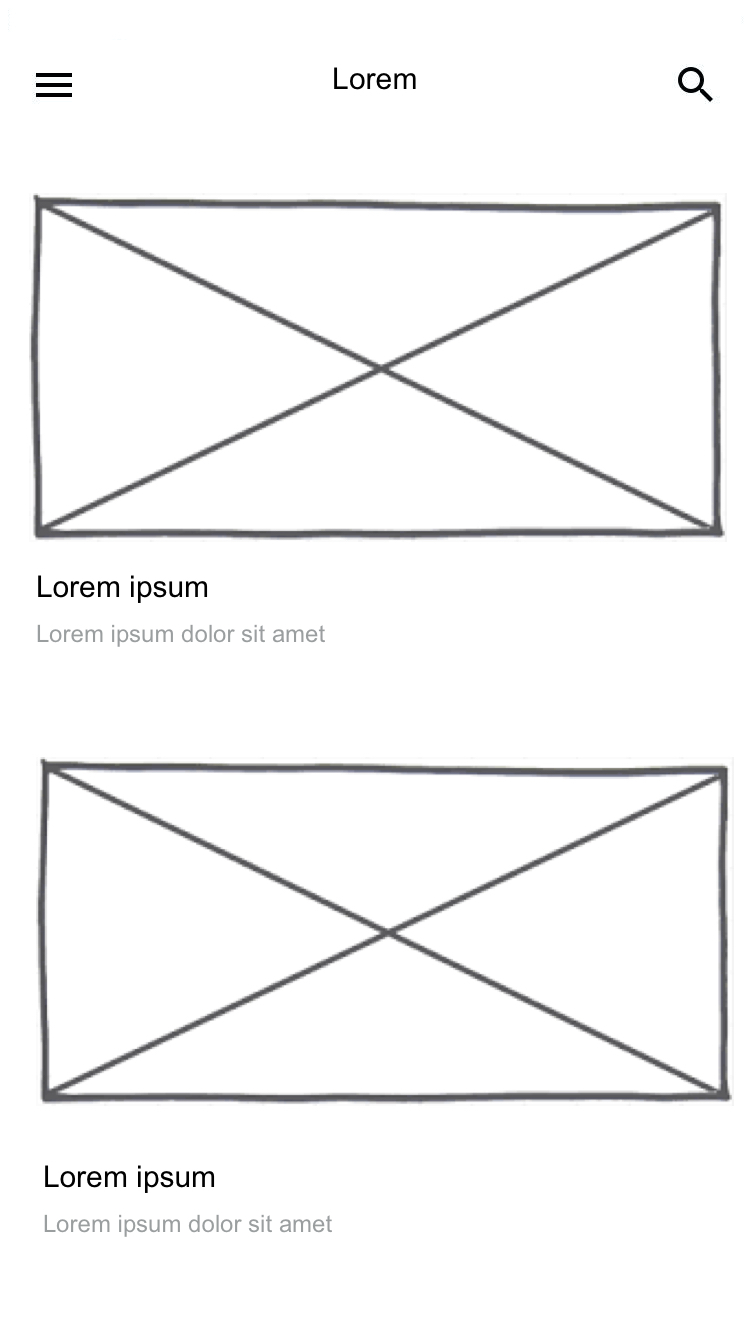Icon: (678, 67, 714, 104), (36, 73, 74, 99)
Image: (29, 193, 724, 540), (36, 762, 729, 1105)
Text: (44, 1214, 333, 1238), (38, 624, 326, 648), (38, 575, 209, 605), (45, 1164, 216, 1194), (334, 67, 417, 91)
